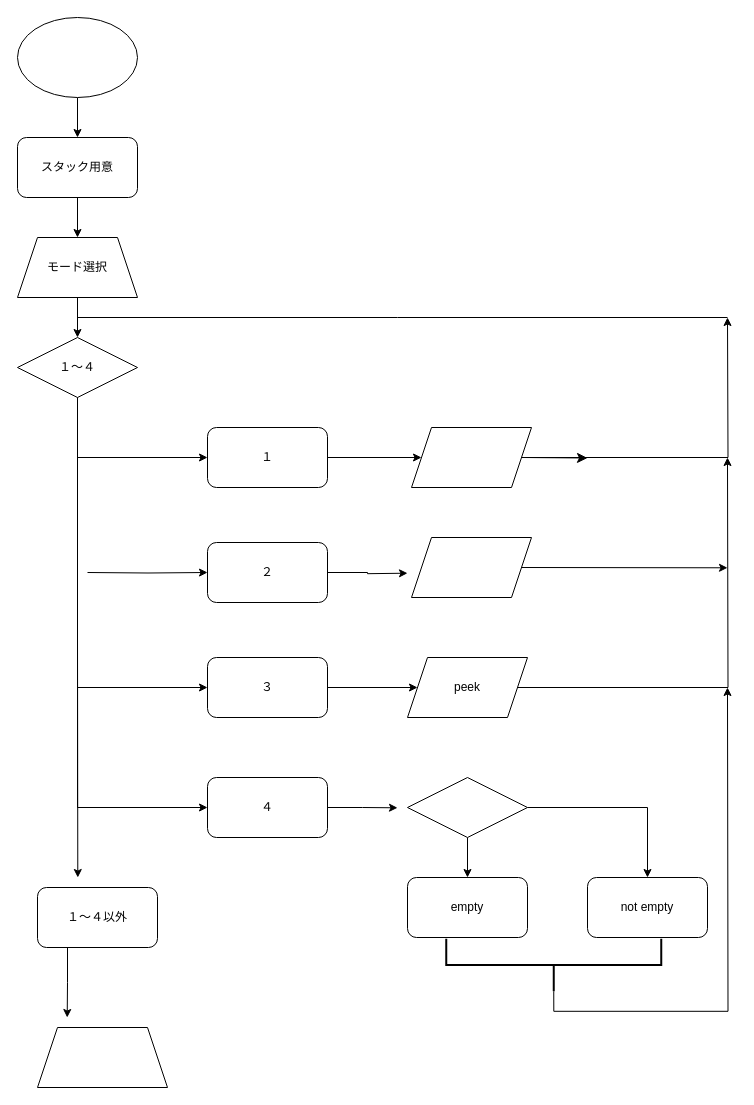
The diagram is 754 pixels wide and 1105 high, and some of its shapes have lost their labels. The shapes that lost their labels are listed below. From the top down, each one's centre as x and y in pixels, then its label:
[77,57]: 開始
[471,457]: push
[471,567]: pop
[467,807]: Isempty
[102,1057]: ループ終了
